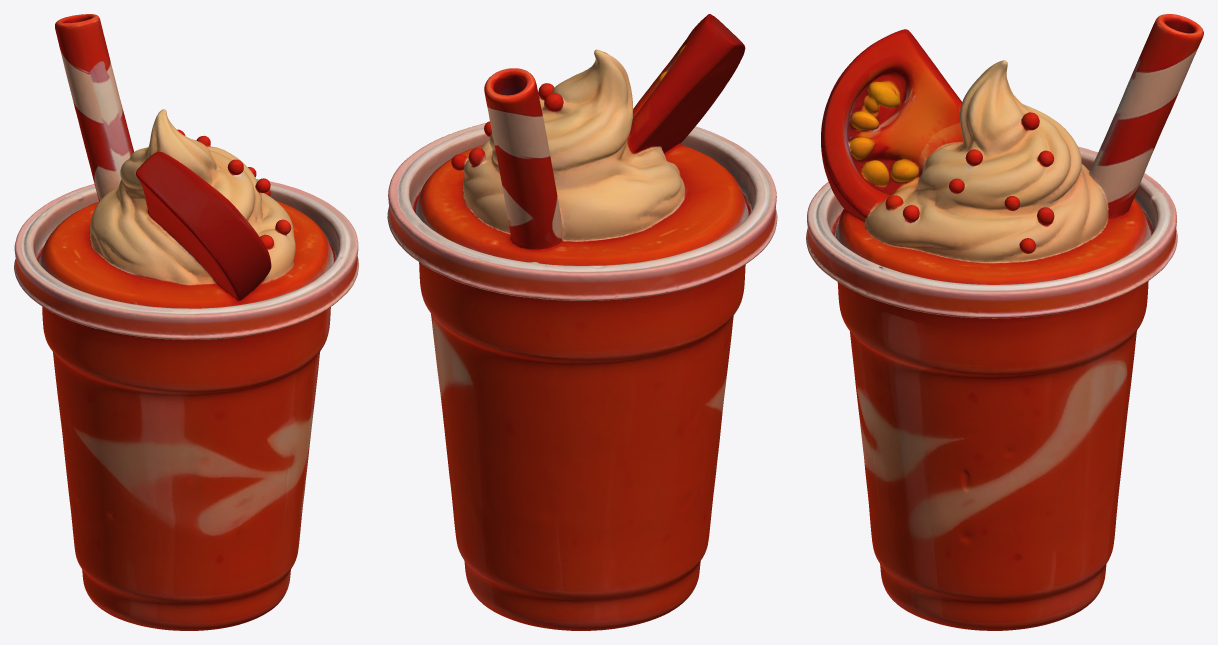
The model's file is tripo_convert_3c2ed2cb-c5e2-42bb-9645-8b9740023c17.fbx.
3 views of the same model, side by side, from view 1: azimuth 30°, elevation 25°; view 2: azimuth 150°, elevation 25°; view 3: azimuth 270°, elevation 25° (orthographic). The views are drawn at different scales.
Visible parts, largest first — view 1: tripo_node_3c2ed2cb; view 2: tripo_node_3c2ed2cb; view 3: tripo_node_3c2ed2cb.
Boxes of the visible parts, x1,y1,x2,y2 form: tripo_node_3c2ed2cb: (14, 14, 358, 630); tripo_node_3c2ed2cb: (387, 14, 777, 630); tripo_node_3c2ed2cb: (806, 14, 1203, 630).
Bounding box in the file's own units: 0.6021 × 1 × 0.6446.
